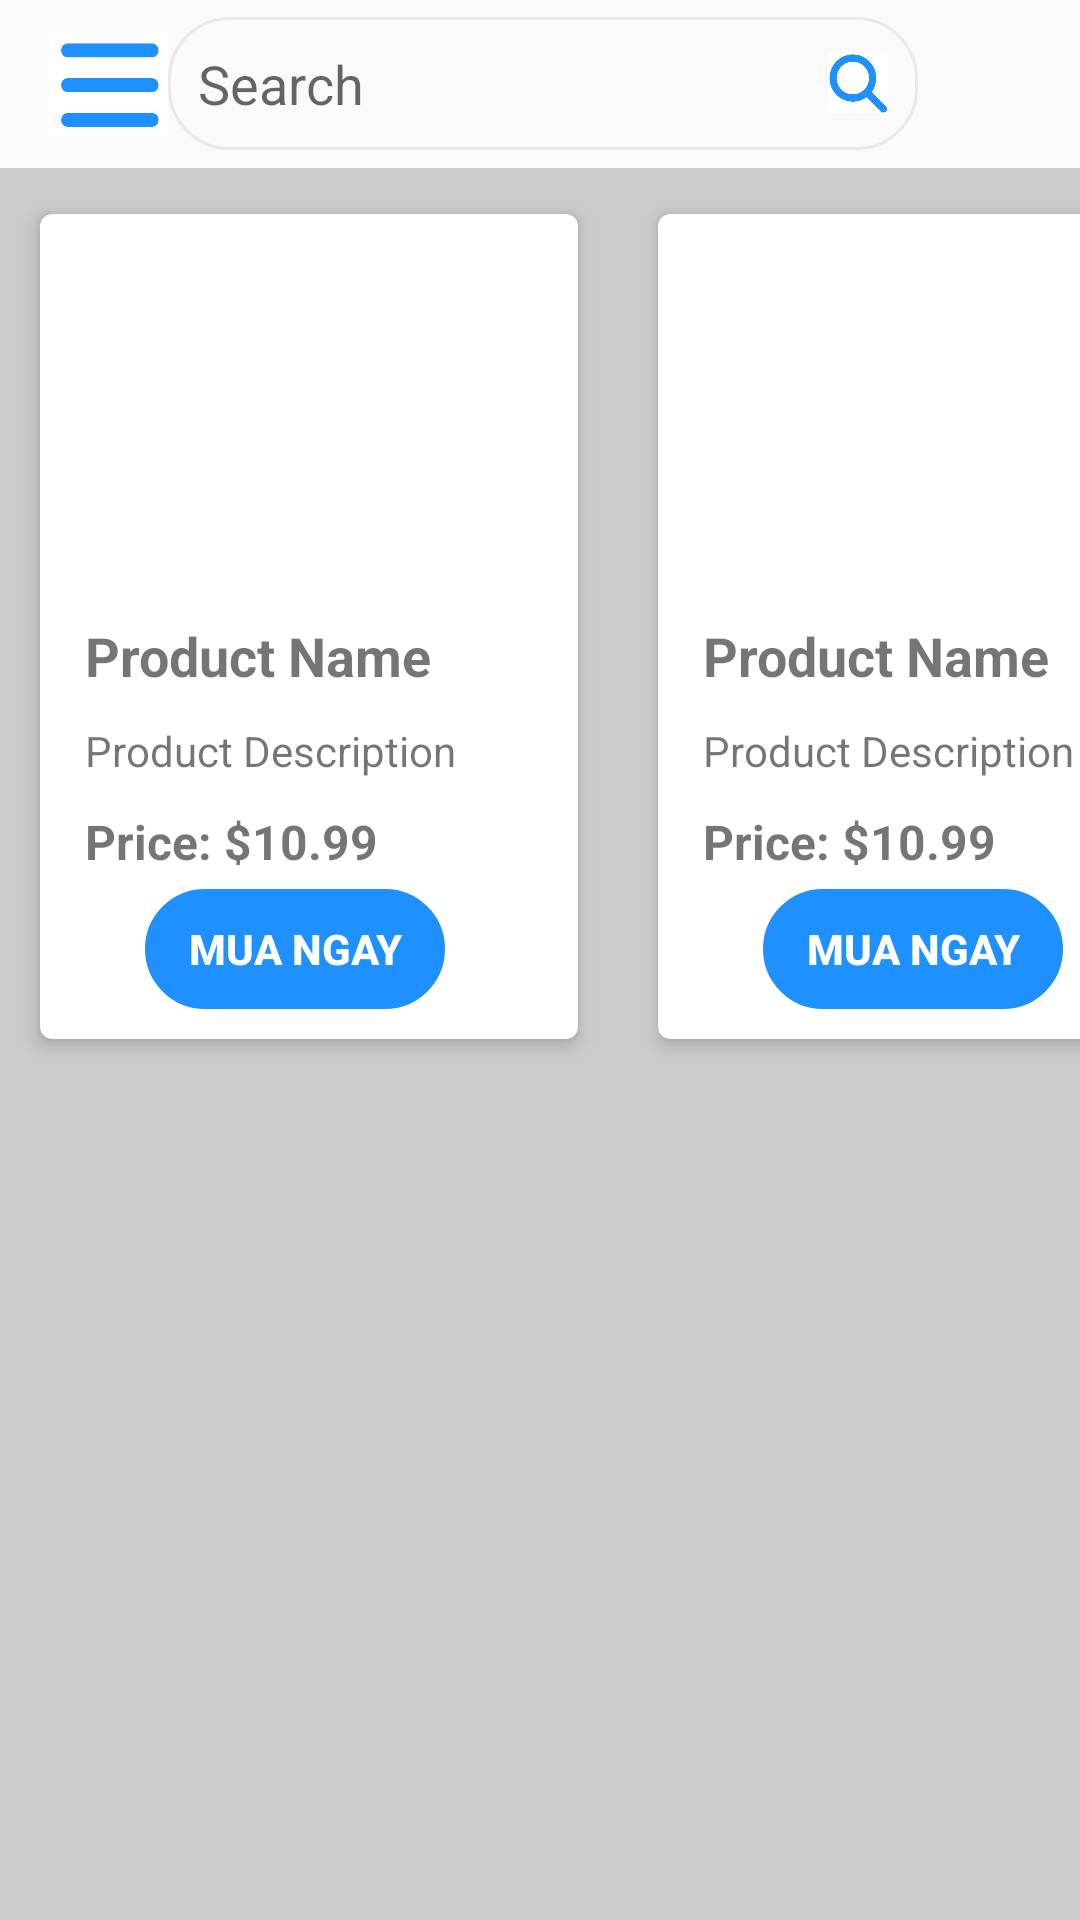

Icons on this 1080x1920 Android screen, each with its box as {"left": x1, "top": y1, "right": x2, "bottom": y2}:
menu: {"left": 61, "top": 43, "right": 159, "bottom": 127}
